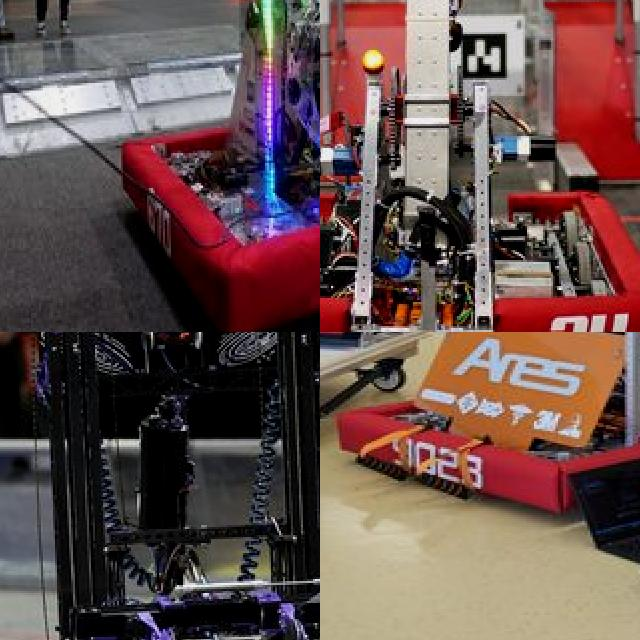FRC-Robots: (320, 0, 640, 332), (0, 332, 320, 640), (107, 0, 320, 332), (320, 332, 640, 489)
